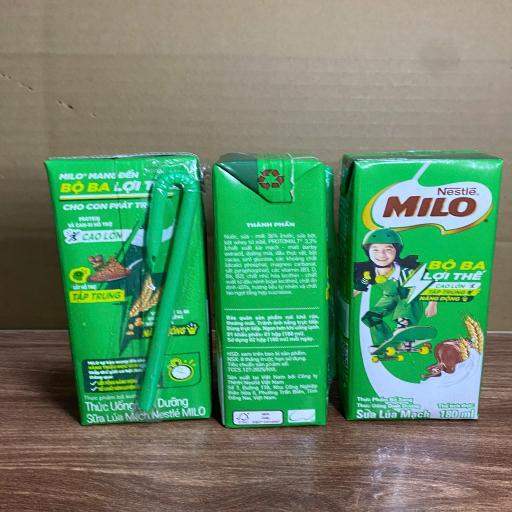milo: (45, 154, 214, 425), (344, 147, 505, 419), (216, 155, 327, 426)
